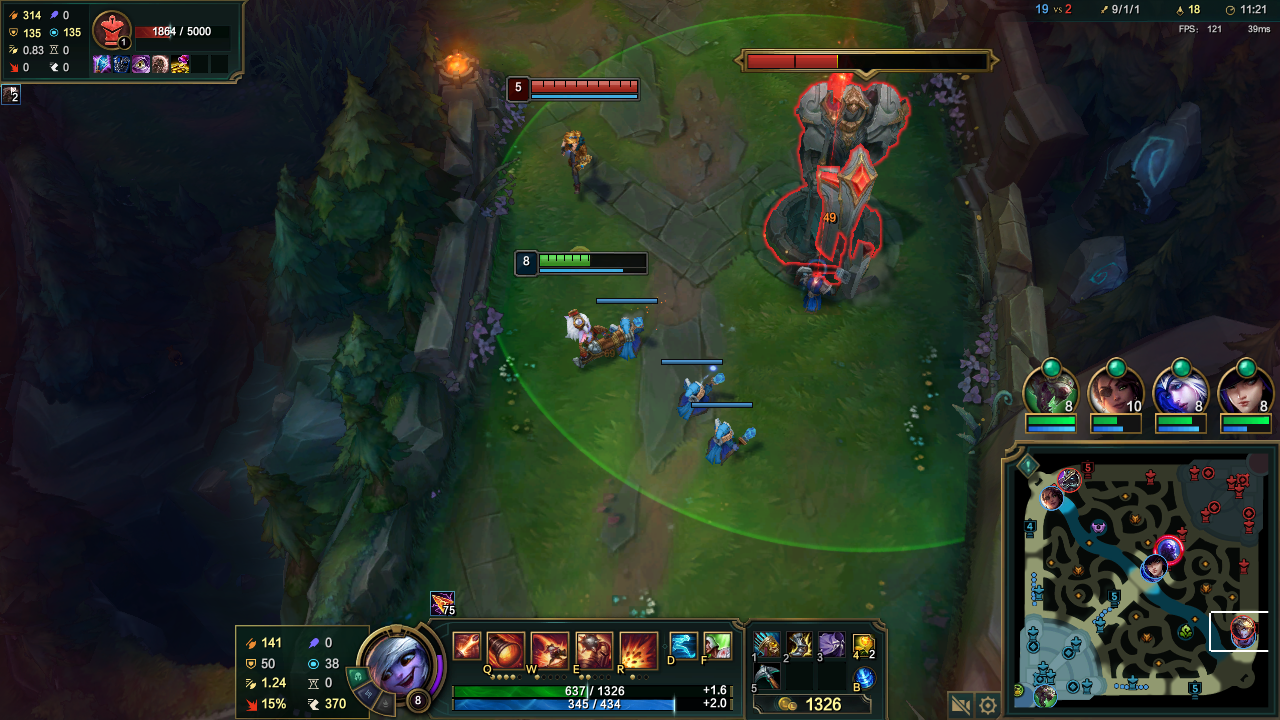DFFYT: (746, 45, 896, 270)
DFYX: (533, 81, 606, 99)
WFXB: (697, 415, 766, 474), (672, 367, 733, 419), (604, 312, 649, 362)
Yita: (1184, 675, 1204, 697)
